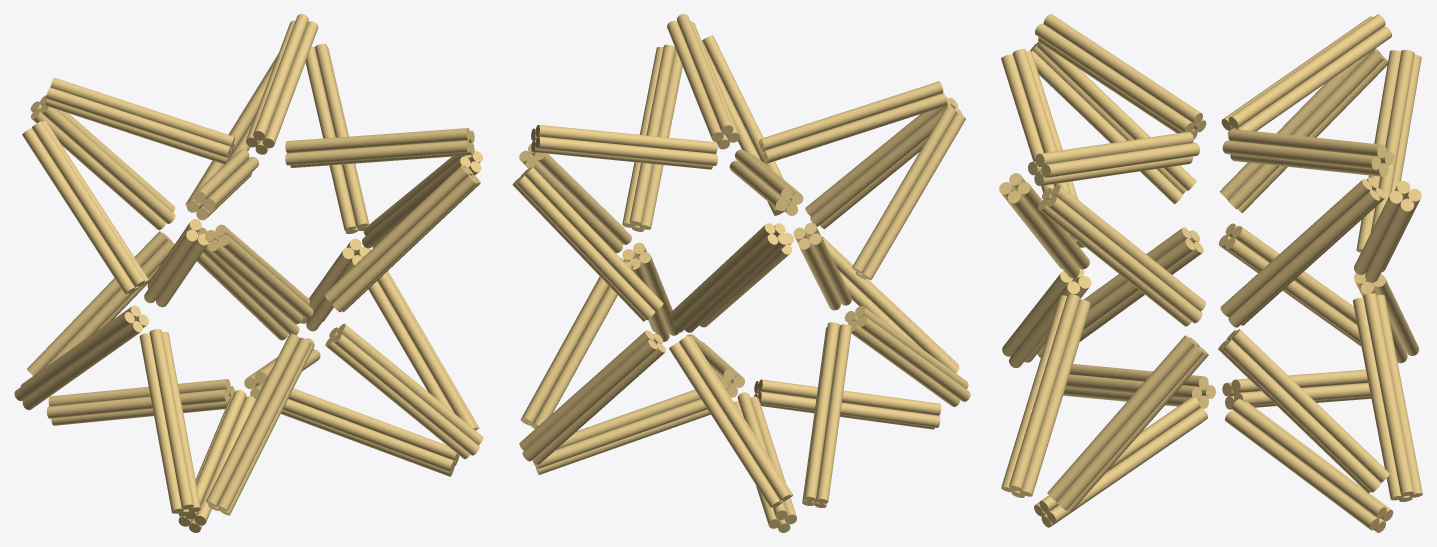
The model's file is 4HB 8vertex2.glb.
3 views of the same model, side by side, from view 1: azimuth 30°, elevation 25°; view 2: azimuth 150°, elevation 25°; view 3: azimuth 270°, elevation 25° (orthographic). The views are drawn at different scales.
Visible parts, largest first — view 1: Cylinder.066, Cylinder.105, Cylinder.038, Cylinder.041, Cylinder.104, Cylinder.075, Cylinder.046, Cylinder.074, Cylinder.039, Cylinder.098, Cylinder.042, Cylinder.087 (+45 smaller); view 2: Cylinder.078, Cylinder.070, Cylinder.060, Cylinder.052, Cylinder.101, Cylinder.058, Cylinder.051, Cylinder.071, Cylinder.109, Cylinder.110, Cylinder.073, Cylinder.103 (+43 smaller); view 3: Cylinder.136, Cylinder.141, Cylinder.054, Cylinder.044, Cylinder.143, Cylinder.137, Cylinder.139, Cylinder.135, Cylinder.130, Cylinder.082, Cylinder.081, Cylinder.068 (+53 smaller).
Boxes of the visible parts, <box> form: Cylinder.066: <box>46,87,230,157</box>; Cylinder.105: <box>31,121,145,287</box>; Cylinder.038: <box>217,337,311,511</box>; Cylinder.041: <box>332,174,477,312</box>; Cylinder.104: <box>22,128,135,294</box>; Cylinder.075: <box>285,140,470,165</box>; Cylinder.046: <box>206,333,300,506</box>; Cylinder.074: <box>285,128,470,153</box>; Cylinder.039: <box>324,165,469,302</box>; Cylinder.098: <box>149,329,193,509</box>; Cylinder.042: <box>333,333,479,455</box>; Cylinder.087: <box>283,399,454,471</box>; Cylinder.078: <box>764,93,947,161</box>; Cylinder.070: <box>760,81,943,150</box>; Cylinder.060: <box>679,335,790,500</box>; Cylinder.052: <box>516,175,655,319</box>; Cylinder.101: <box>852,106,956,273</box>; Cylinder.058: <box>669,342,780,507</box>; Cylinder.051: <box>524,166,663,311</box>; Cylinder.071: <box>535,136,717,165</box>; Cylinder.109: <box>816,324,851,503</box>; Cylinder.110: <box>804,322,839,501</box>; Cylinder.073: <box>535,125,717,153</box>; Cylinder.103: <box>861,113,965,279</box>; Cylinder.136: <box>1056,344,1203,510</box>; Cylinder.141: <box>1222,339,1381,492</box>; Cylinder.054: <box>1363,293,1414,496</box>; Cylinder.044: <box>1009,294,1080,490</box>; Cylinder.143: <box>1230,329,1389,482</box>; Cylinder.137: <box>1047,335,1194,501</box>; Cylinder.139: <box>1228,189,1379,327</box>; Cylinder.135: <box>1047,195,1202,323</box>; Cylinder.130: <box>1220,179,1371,316</box>; Cylinder.082: <box>1225,410,1379,530</box>; Cylinder.081: <box>1232,399,1386,518</box>; Cylinder.068: <box>1228,14,1385,128</box>.
Size of the model in its own units: 12.68 by 13.33 by 13.22.
